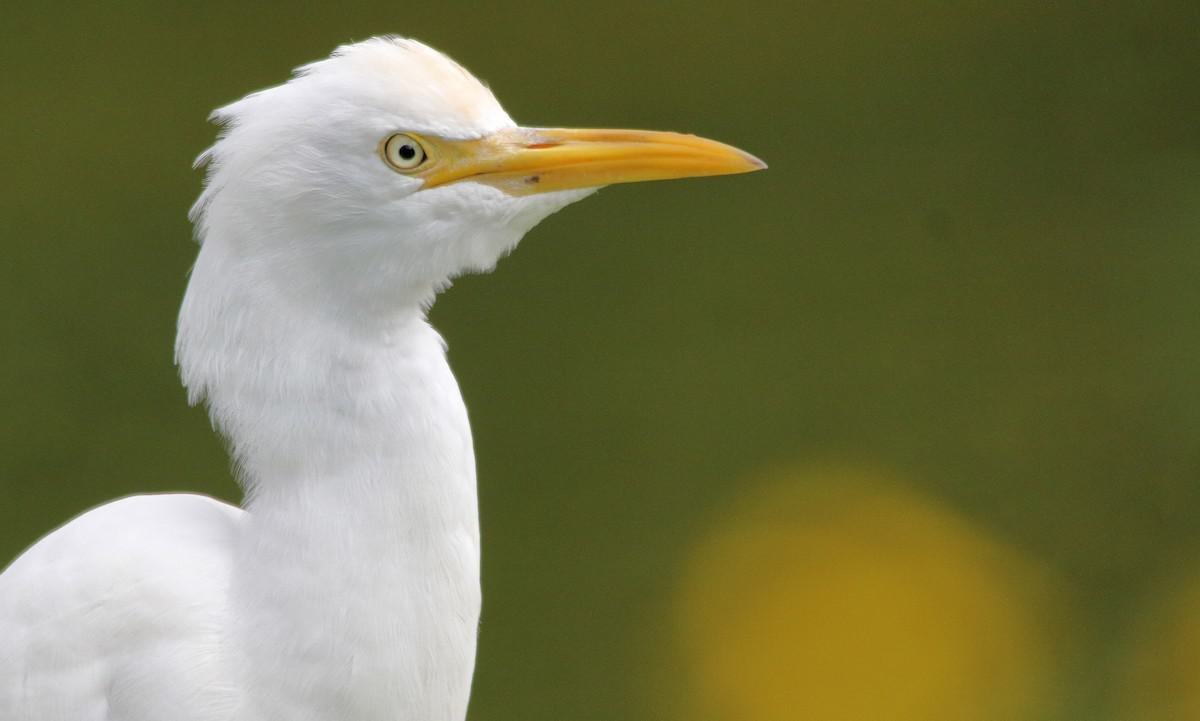egret: (1, 19, 778, 721)
